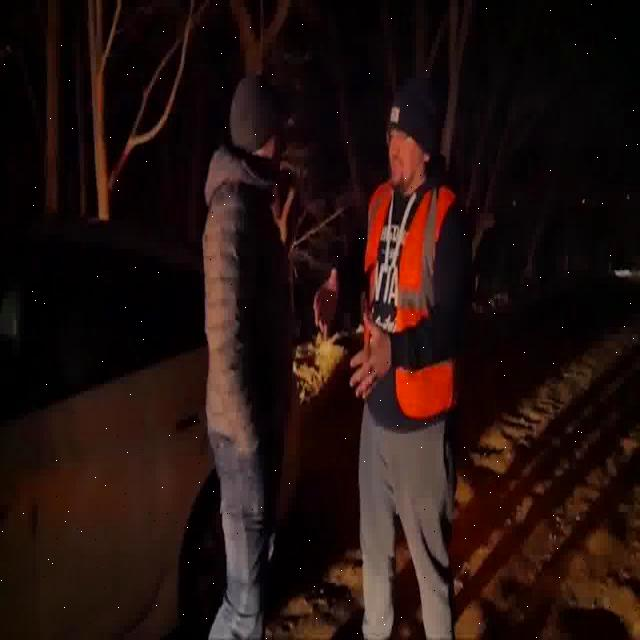Vest: (363, 185, 461, 417)
